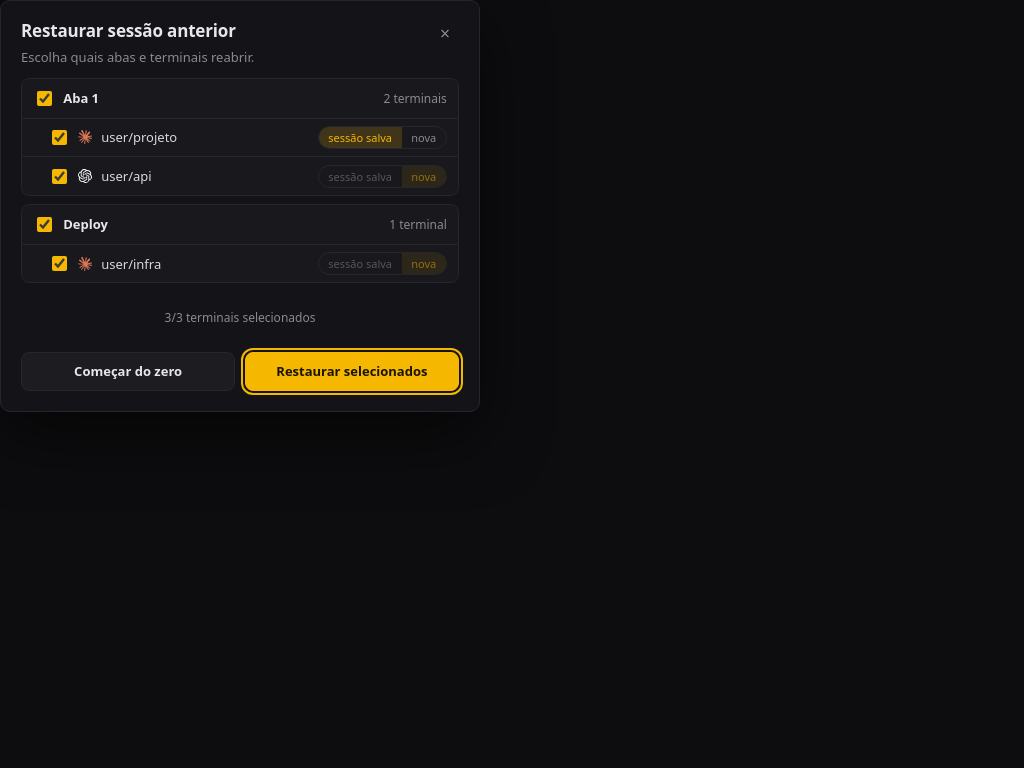
Test: RestoreSessionDialog › desabilita "Restaurar selecionados" quando nenhum terminal está marcado
Check: the button "Restaurar selecionados" is enabled, box [245,352,459,391]
Click the checkbox named "restaurar aba Aba 1" at (45, 98), box [37,91,52,106]
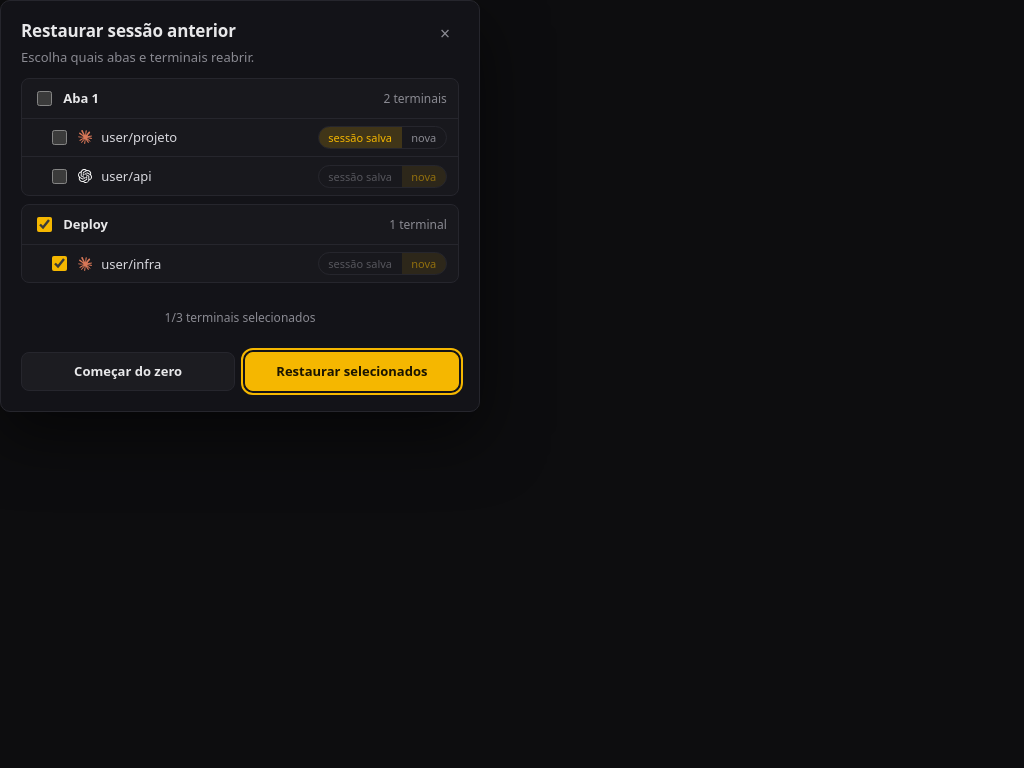
Click the checkbox named "restaurar aba Deploy" at (45, 224), box [37,217,52,232]
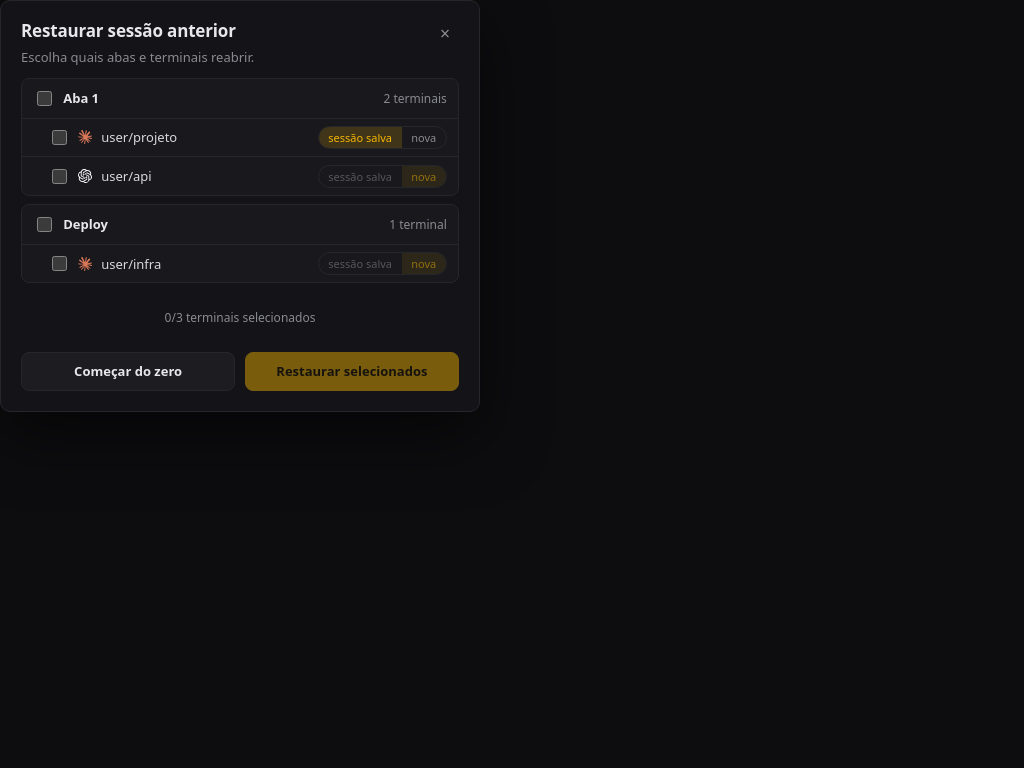
Check: the button "Restaurar selecionados" is disabled, box [245,352,459,391]
